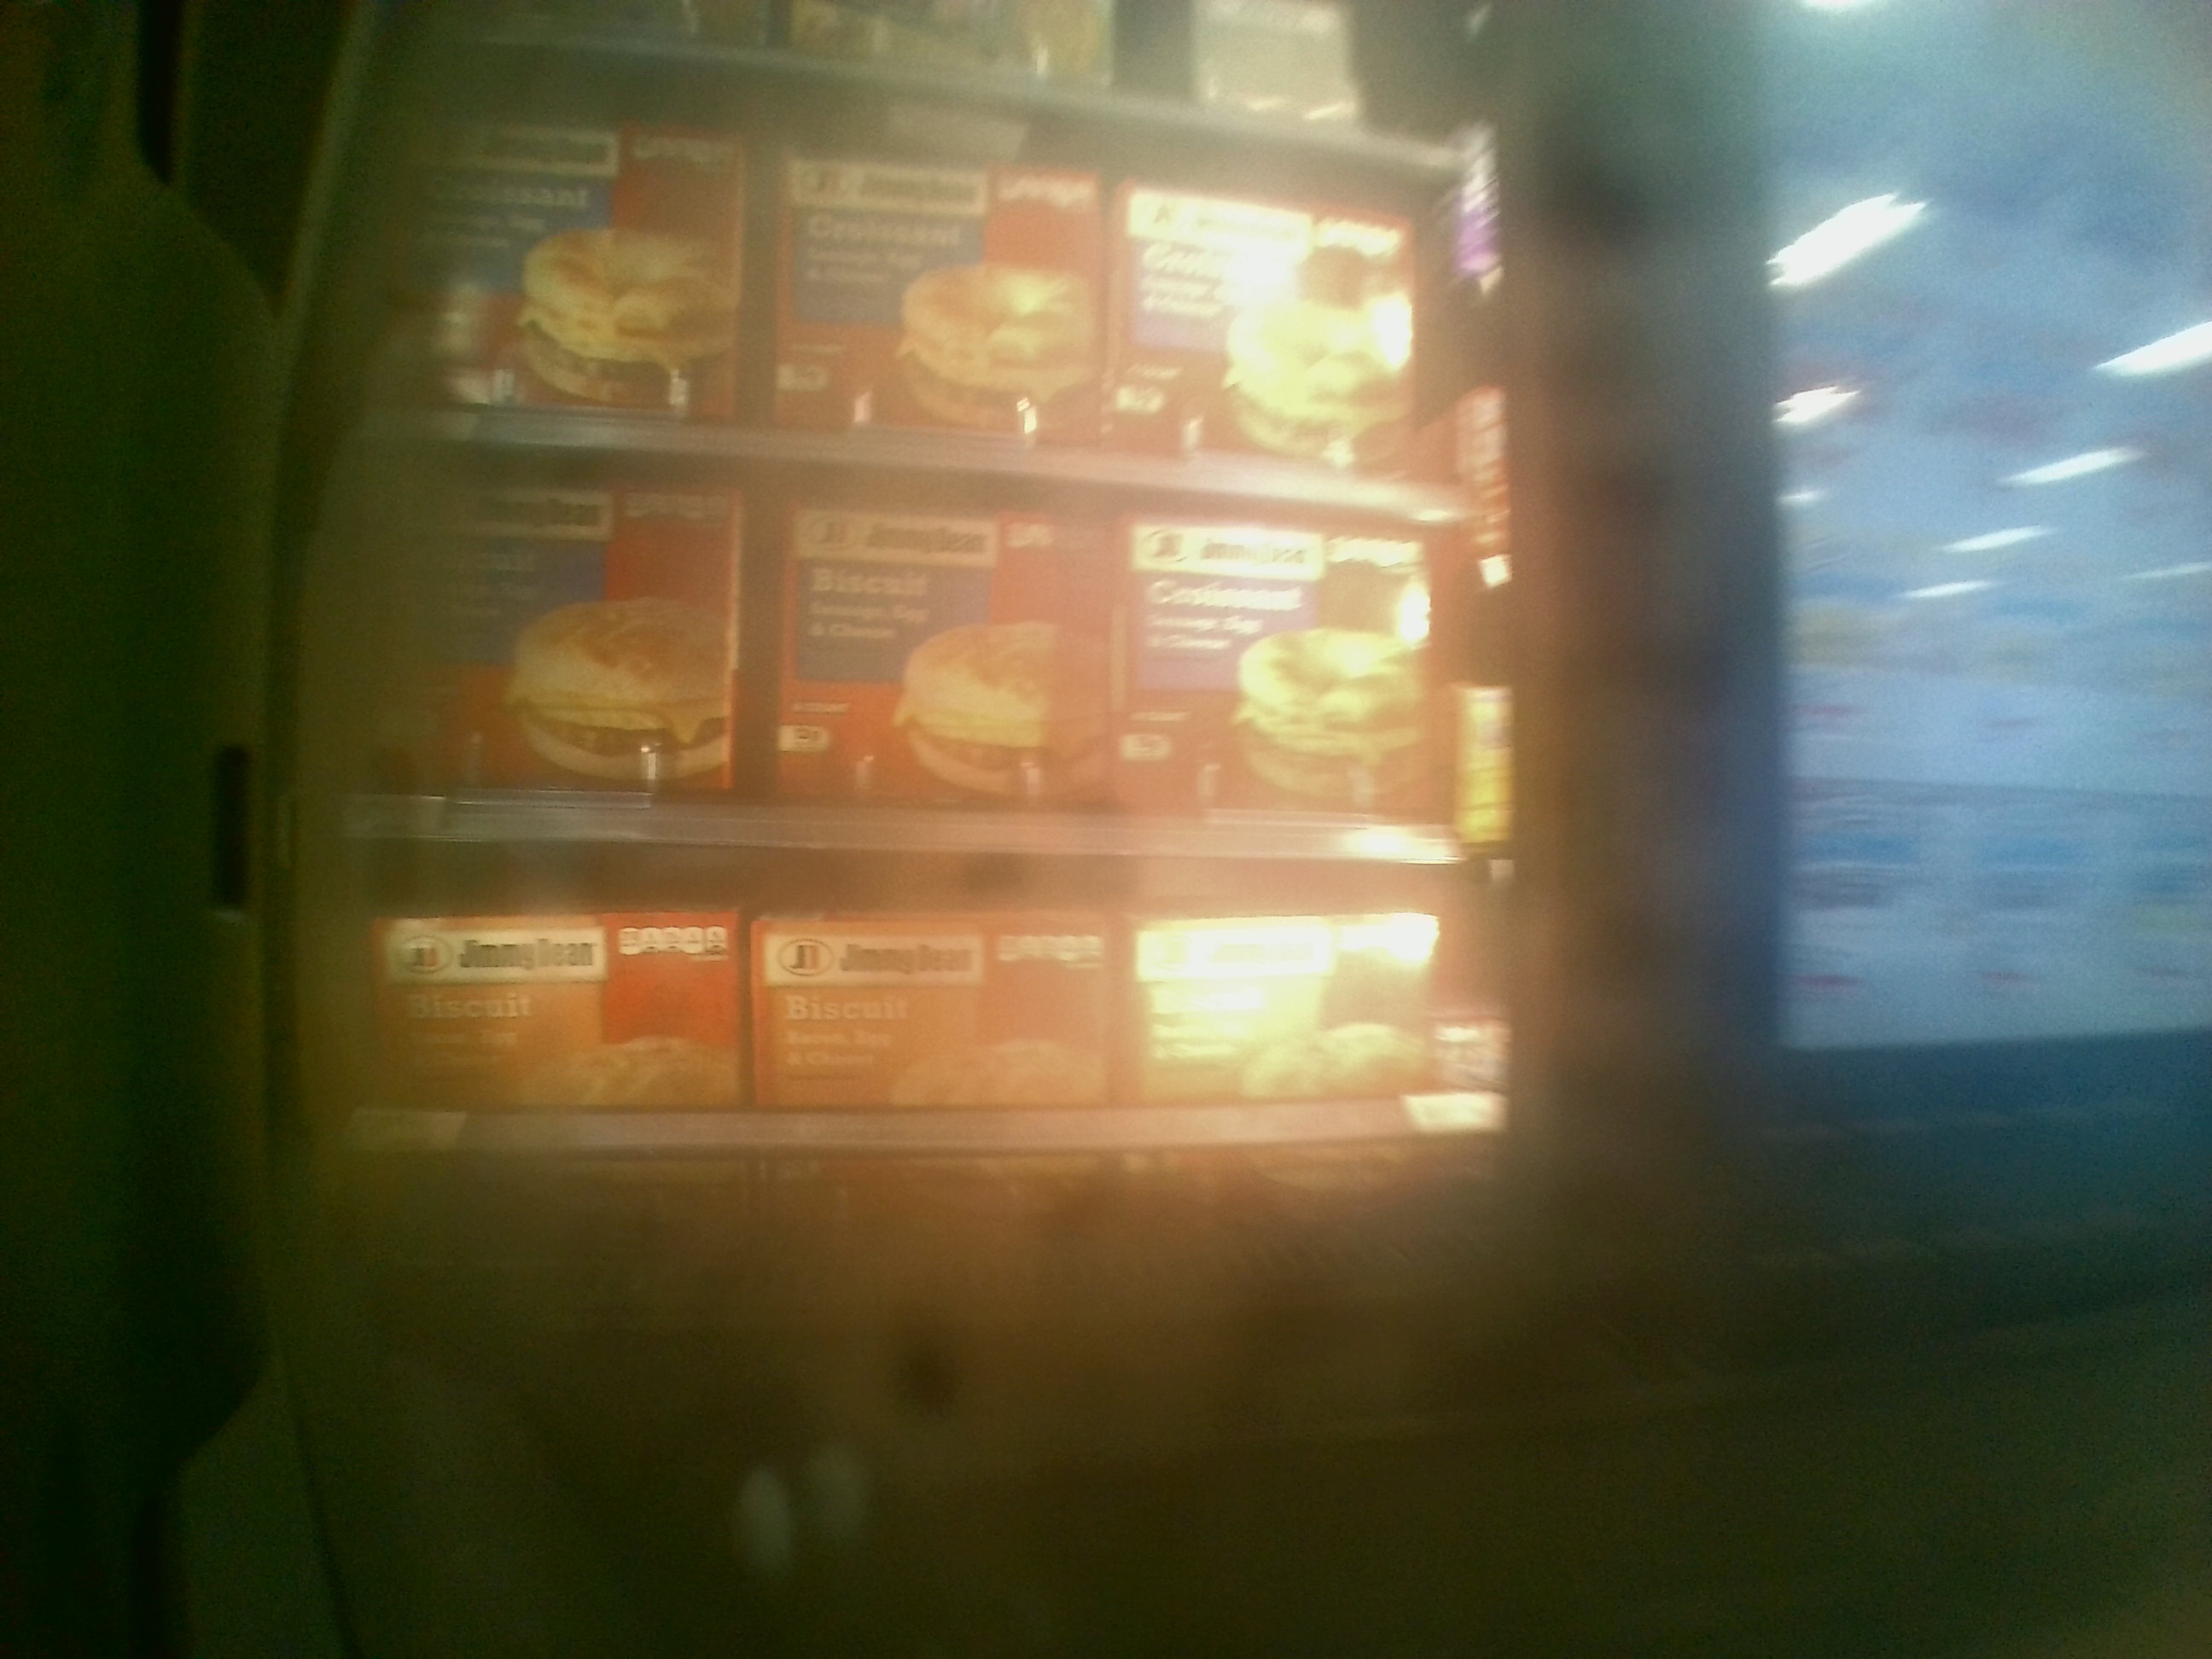shelf: (320, 842, 1505, 1265)
